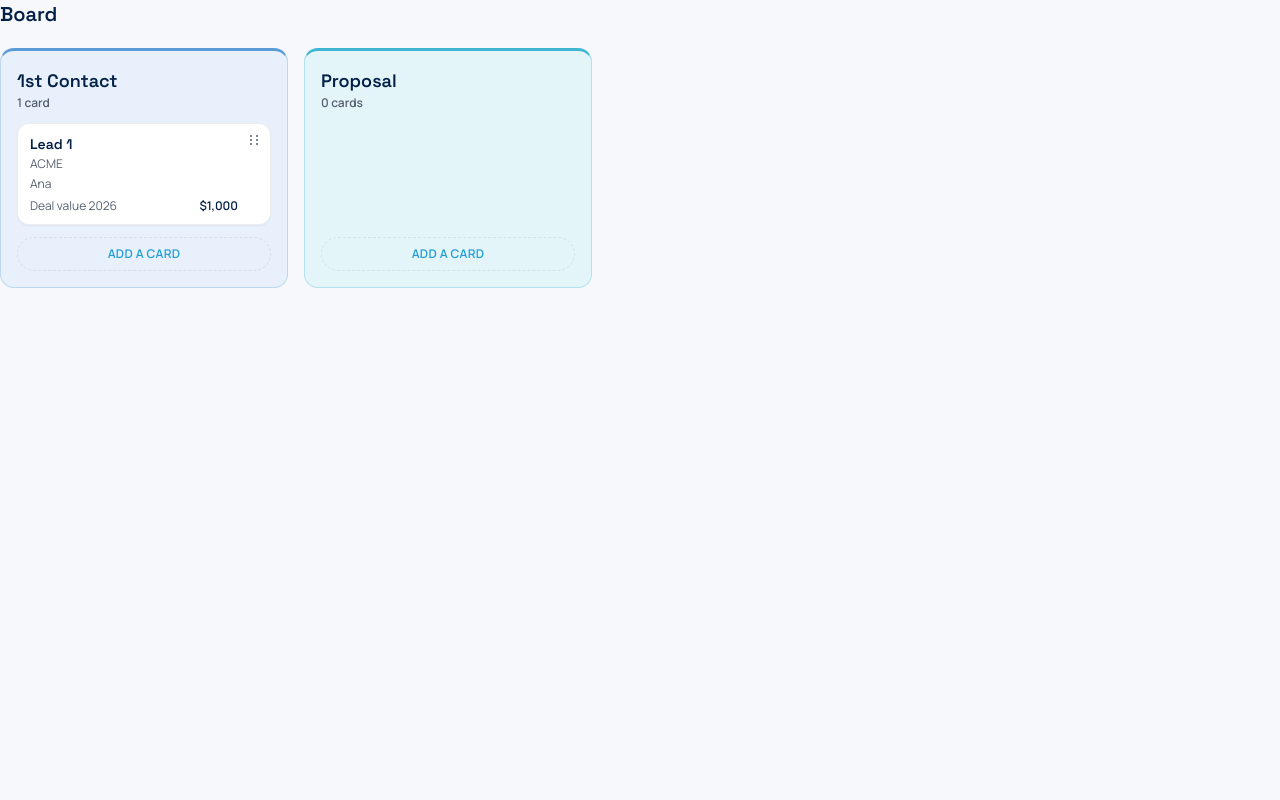
compact central card and its details › opens the details on a click and writes nothing
Click the button with aria-label "Open details for Lead 1".
click(144, 174)  # box [30,134,258,214]
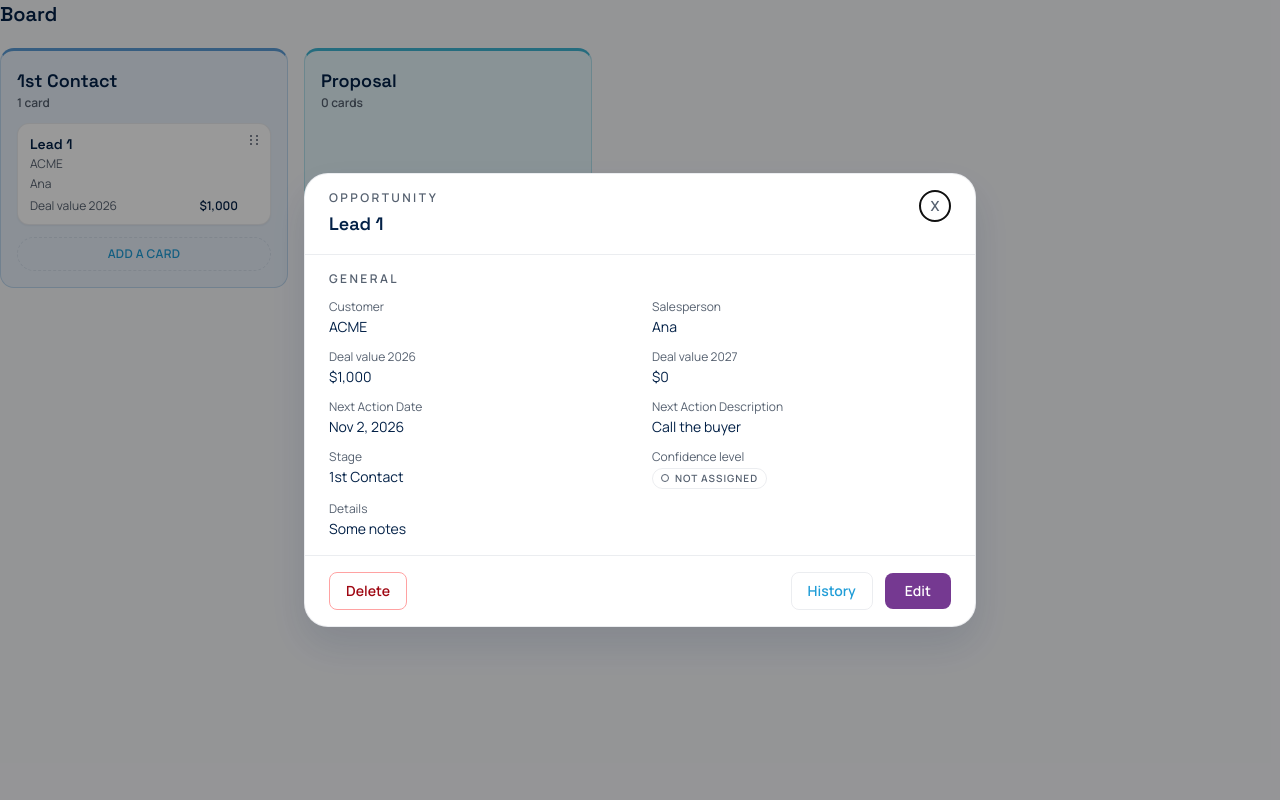
Result: the text "Next Action Date" is shown at [329,398,422,415]
Result: the text "Nov 2, 2026" is shown at [329,417,404,436]
Result: the text "Next Action Description" is shown at [652,398,783,415]
